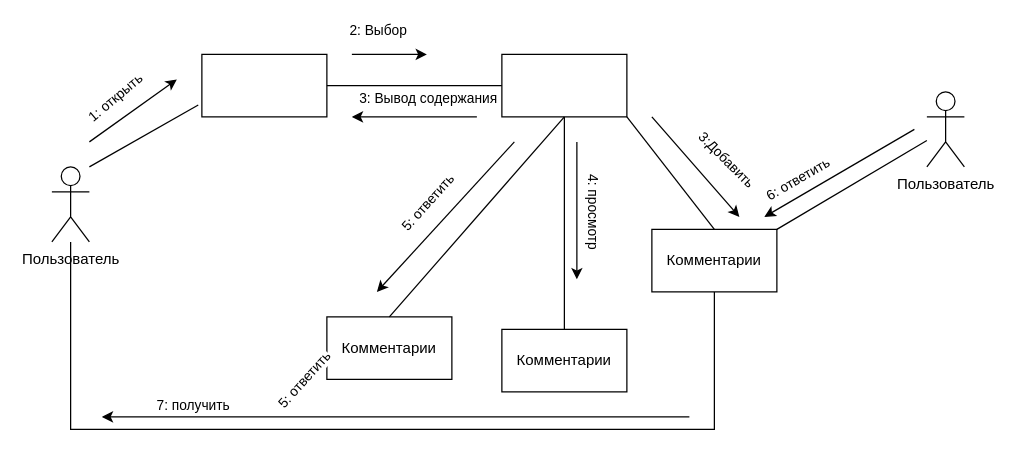
Image size: 1015x453. Some labels were removed from this diagram. The shapes that lost their labels are listed below. From the top down, each one's centre as x and y in pixels, then its label:
the point at 264,85: Сайт
the point at 564,85: Тема
